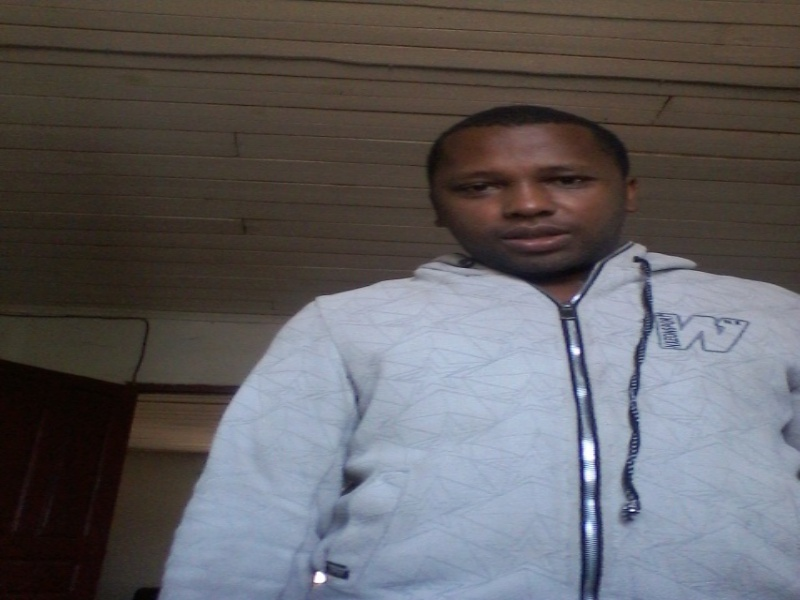TsisyArotava: (415, 100, 662, 292)
